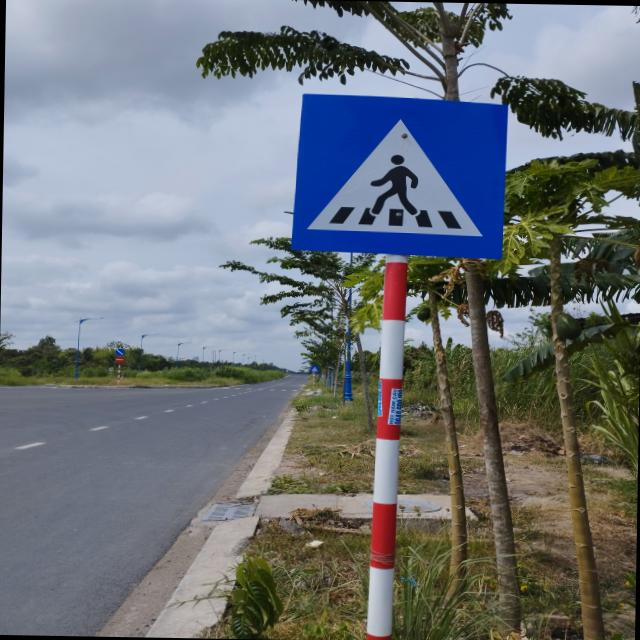Giao_Nhau_Duong_Uu_Tien: (289, 94, 506, 260)
